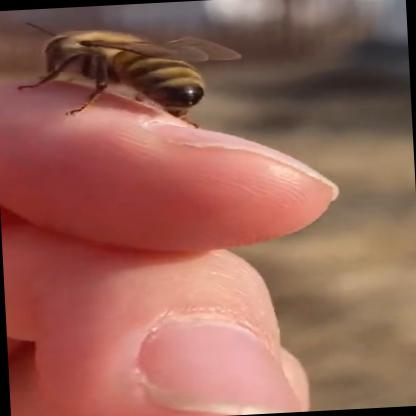bee: (0, 6, 284, 139)
